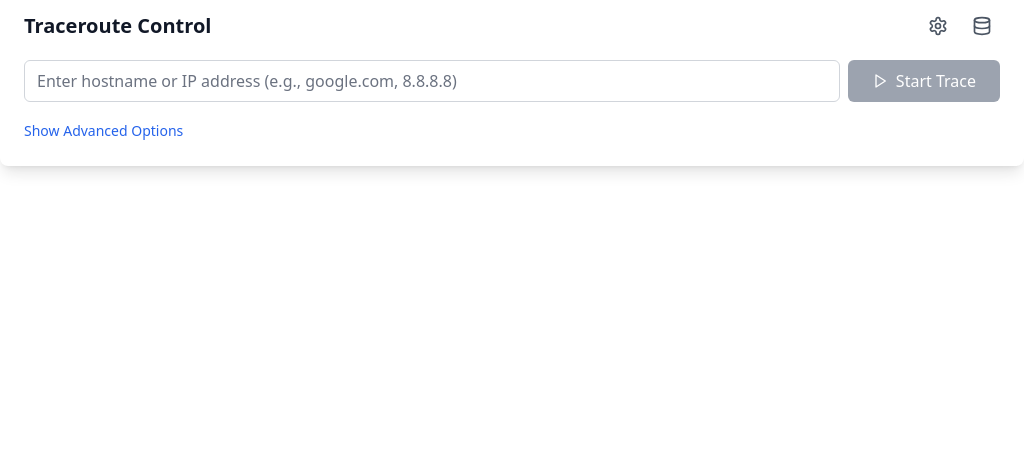
Scenario: TracerouteControl › shows advanced options when toggled
Step 1. Click the button "Show Advanced Options" → (104, 131), box [24,121,183,141]
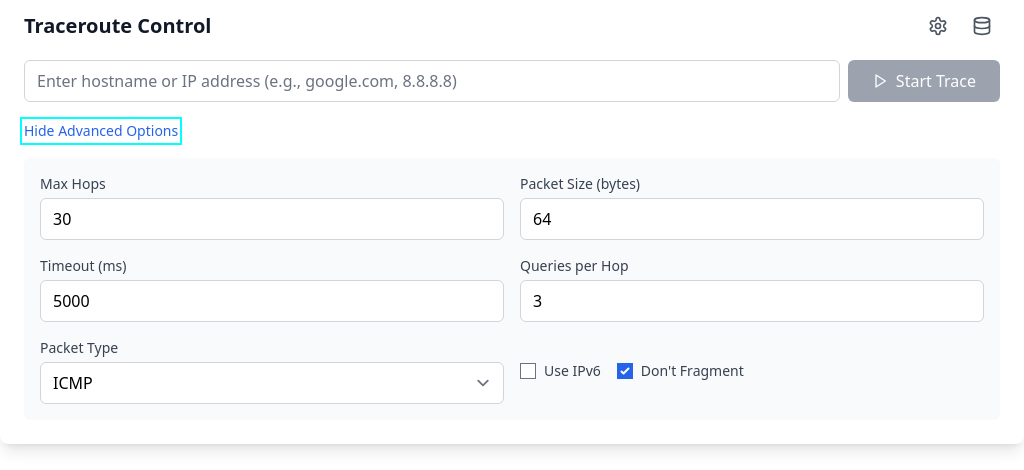
Now the text "Max Hops" is shown, box [40,174,106,193]
Now the text "Packet Size (bytes)" is shown, box [520,174,640,193]
Now the text "Timeout (ms)" is shown, box [40,256,126,275]
